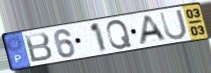1: (89, 21, 109, 53)
6: (53, 28, 77, 59)
A: (138, 14, 169, 47)
B: (23, 31, 55, 64)
Q: (105, 18, 134, 51)
U: (158, 8, 189, 42)
